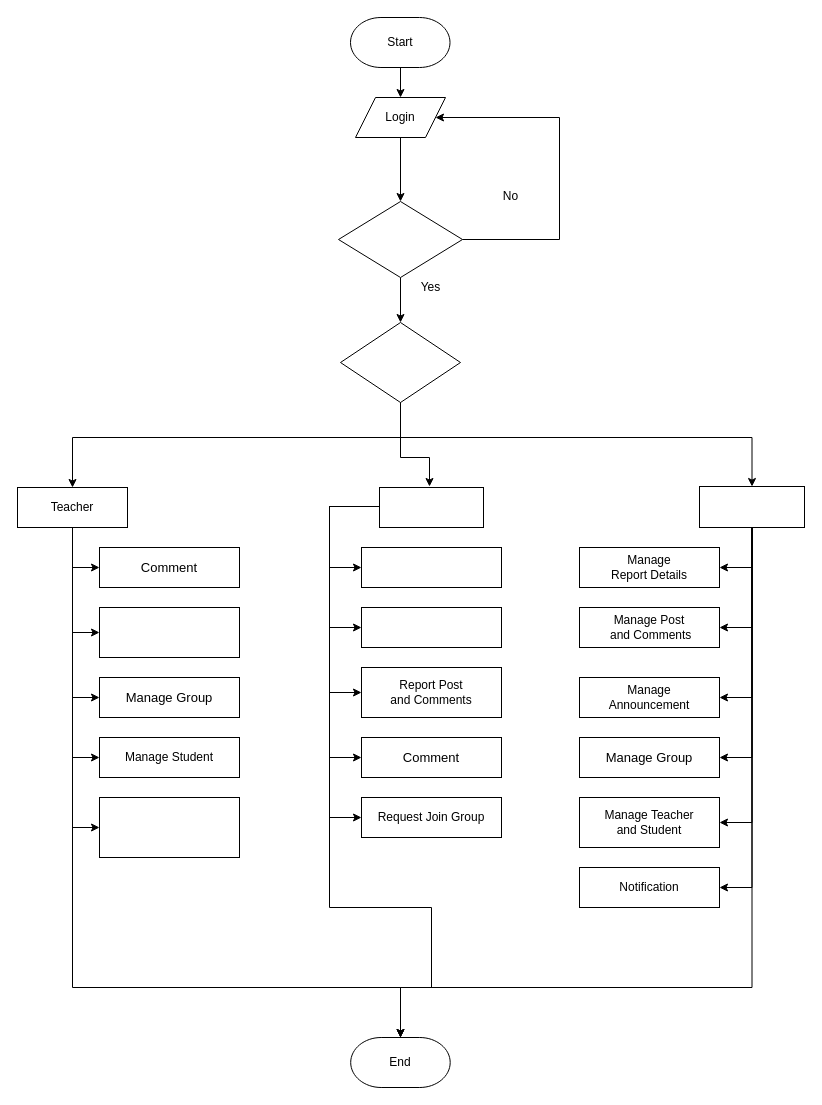
The diagram is 822 pixels wide and 1105 high, and some of its shapes have lost their labels. The shapes that lost their labels are listed below. From the top down, each one's centre as x and y in pixels, then its label:
At [400,239]: "Login successful?".
At [400,362]: "Identity?".
At [431,507]: "Student".
At [751,507]: "Admin".
At [431,567]: "Manage Profile Detail".
At [169,632]: "Manage Post and Student Comment".
At [431,627]: "Manage Post".
At [169,827]: "Accept & Decline Student Join Group Request".
